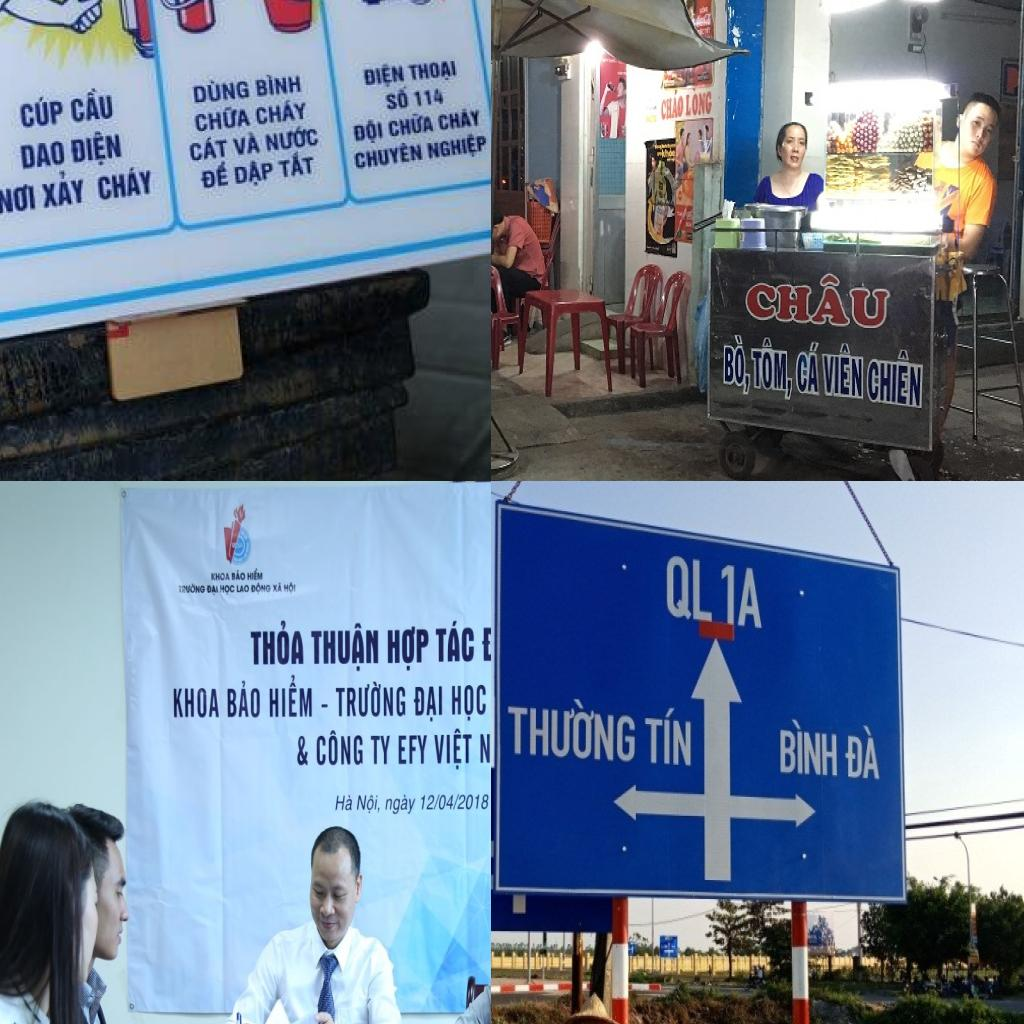text: (507, 694, 636, 764), (746, 270, 894, 329), (667, 555, 765, 632), (309, 620, 382, 677), (866, 347, 926, 409), (332, 676, 409, 724), (780, 718, 838, 778), (246, 618, 308, 670), (751, 336, 798, 401), (93, 160, 158, 206), (68, 126, 130, 174), (645, 706, 692, 768), (351, 138, 426, 174), (266, 672, 316, 724), (385, 621, 431, 676), (822, 343, 865, 400), (424, 131, 491, 167), (189, 102, 255, 138), (39, 167, 88, 215), (260, 120, 324, 156), (314, 728, 366, 772), (188, 73, 254, 107), (432, 619, 477, 667), (16, 90, 66, 133), (68, 85, 117, 128), (170, 684, 222, 724), (16, 136, 70, 174), (252, 96, 312, 130), (432, 728, 474, 776), (721, 335, 753, 397), (448, 678, 490, 724), (230, 157, 279, 194), (416, 790, 491, 814), (223, 678, 263, 722), (252, 70, 306, 102), (795, 339, 823, 400), (0, 177, 40, 219), (274, 148, 320, 184), (358, 61, 407, 94), (385, 111, 438, 141), (411, 680, 445, 726), (404, 58, 460, 85), (187, 133, 231, 167), (434, 104, 482, 134), (196, 158, 233, 196), (395, 729, 429, 770), (349, 117, 387, 150), (230, 130, 266, 158), (367, 732, 392, 772), (383, 82, 414, 114), (412, 85, 448, 111), (383, 792, 418, 818), (685, 86, 713, 118), (660, 86, 684, 122), (294, 731, 312, 773), (354, 792, 382, 818), (476, 728, 491, 768), (479, 617, 491, 666), (332, 790, 355, 814), (177, 582, 206, 596), (250, 582, 272, 597), (282, 580, 298, 598), (246, 567, 264, 582), (209, 570, 231, 582), (220, 583, 236, 599), (230, 568, 247, 582), (206, 583, 220, 597), (236, 583, 250, 596), (272, 581, 284, 594), (318, 702, 330, 711)
